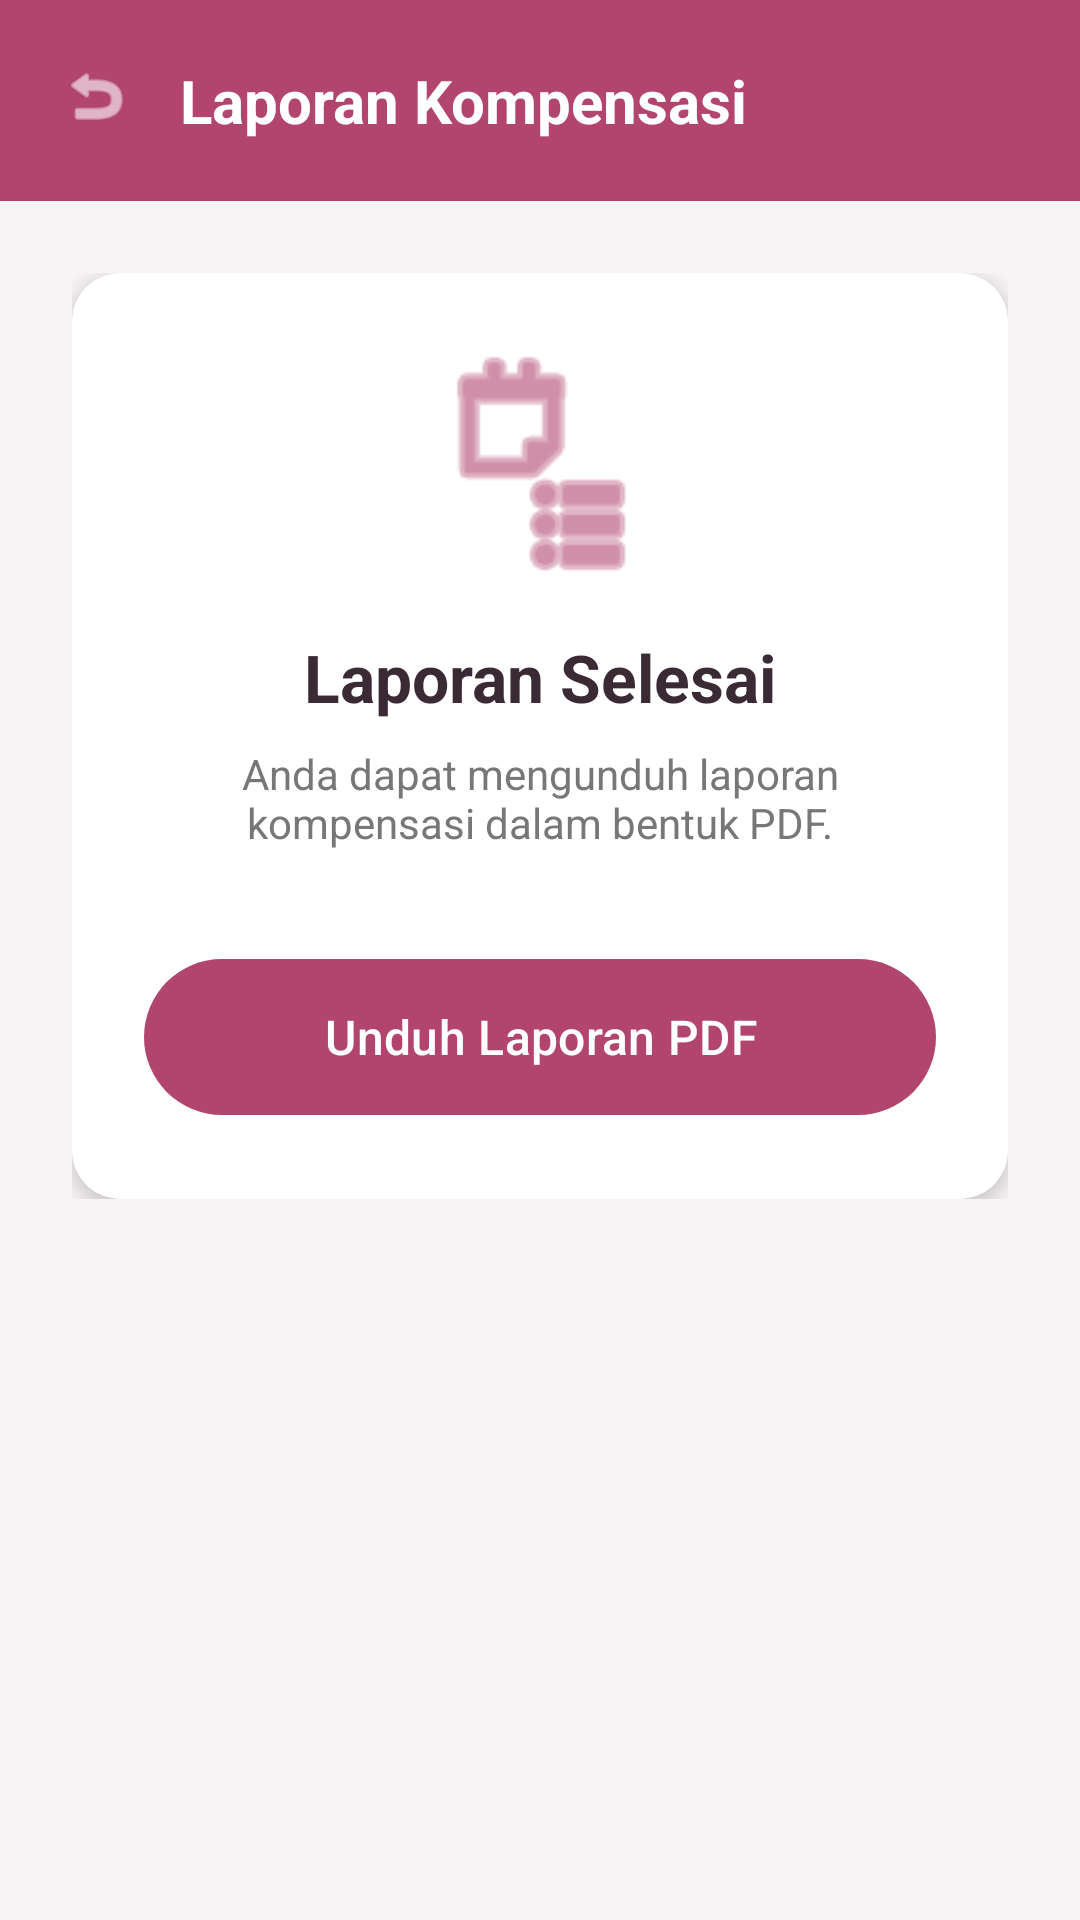

Locate icon controls on the screen. Image size 1080px×1920px, boxes as region(x1, y1, x2, y2).
agenda: region(457, 357, 625, 570)
revert: region(71, 73, 123, 120)
